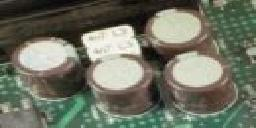Electrolytic Capacitor: (160, 46, 238, 102), (11, 33, 80, 88), (86, 48, 155, 97), (143, 6, 217, 48)
